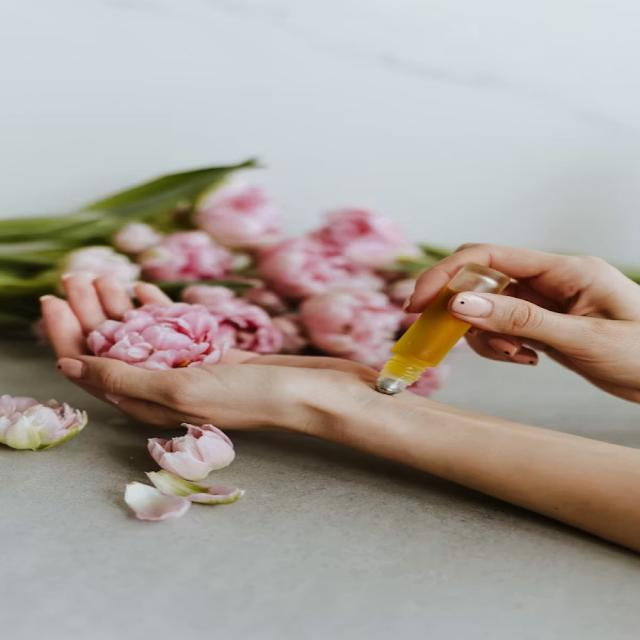Bottle: (376, 264, 510, 394)
